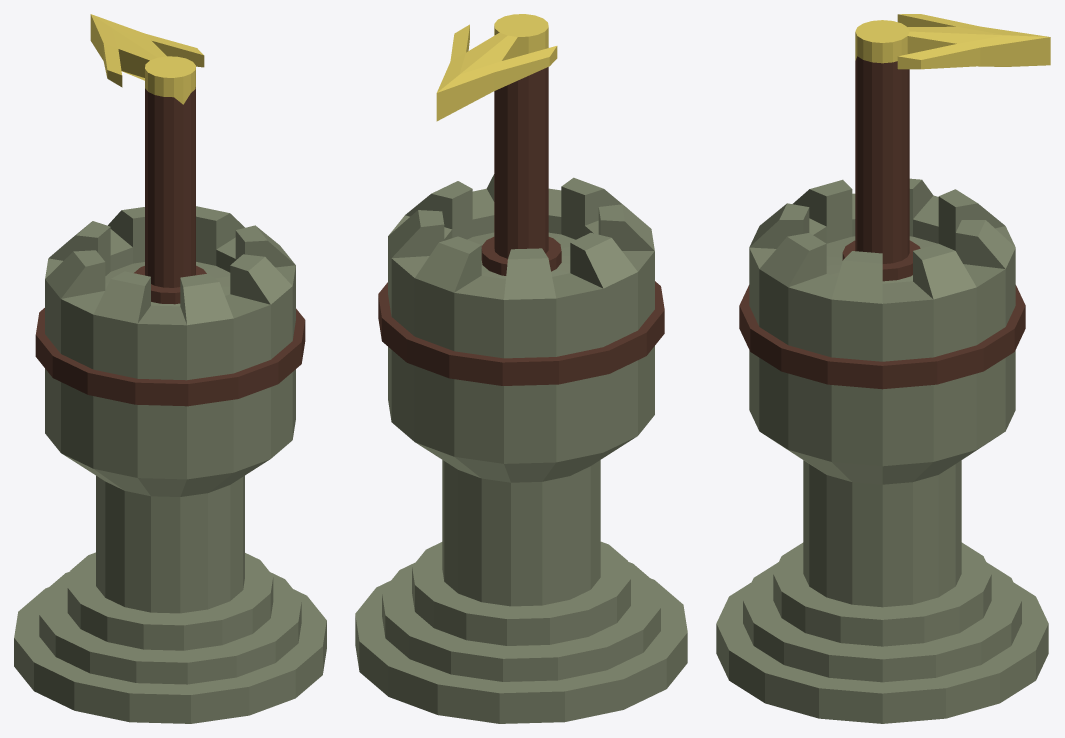
The model's file is Turm.fbx.
The picture shows the model from 3 angles, left to right: view 1: azimuth 30°, elevation 25°; view 2: azimuth 150°, elevation 25°; view 3: azimuth 270°, elevation 25°; orthographic projection. The views are drawn at different scales.
Parts seen in each view (by area): view 1: unten, oben, Geschütz, Ring, Pfeil; view 2: unten, oben, Geschütz, Ring, Pfeil; view 3: unten, oben, Geschütz, Ring, Pfeil.
Part boxes in pixels (x1=…): unten: x1=14, y1=475, x2=326, y2=723; oben: x1=45, y1=206, x2=295, y2=496; Geschütz: x1=134, y1=87, x2=206, y2=304; Ring: x1=35, y1=308, x2=305, y2=406; Pfeil: x1=90, y1=14, x2=204, y2=104; unten: x1=355, y1=460, x2=687, y2=723; oben: x1=388, y1=174, x2=654, y2=482; Geschütz: x1=481, y1=67, x2=561, y2=275; Ring: x1=378, y1=281, x2=664, y2=385; Pfeil: x1=436, y1=14, x2=557, y2=121; unten: x1=716, y1=460, x2=1048, y2=723; oben: x1=749, y1=178, x2=1015, y2=484; Geschütz: x1=842, y1=56, x2=920, y2=281; Ring: x1=739, y1=285, x2=1025, y2=389; Pfeil: x1=855, y1=14, x2=1050, y2=69.
Bounding box in the file's own units: 1119 × 2313 × 1126.
